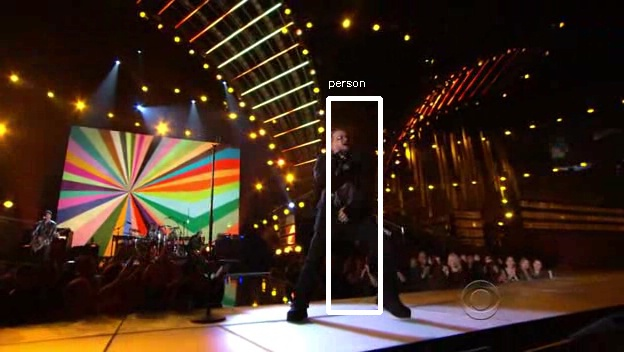person: (312, 126, 378, 247), (309, 126, 375, 247), (315, 126, 381, 247), (312, 123, 378, 244), (312, 129, 378, 250)
target_negative: (250, 307, 573, 330), (544, 237, 621, 307), (325, 304, 465, 321), (564, 184, 587, 278), (366, 341, 584, 346), (354, 60, 518, 61)
